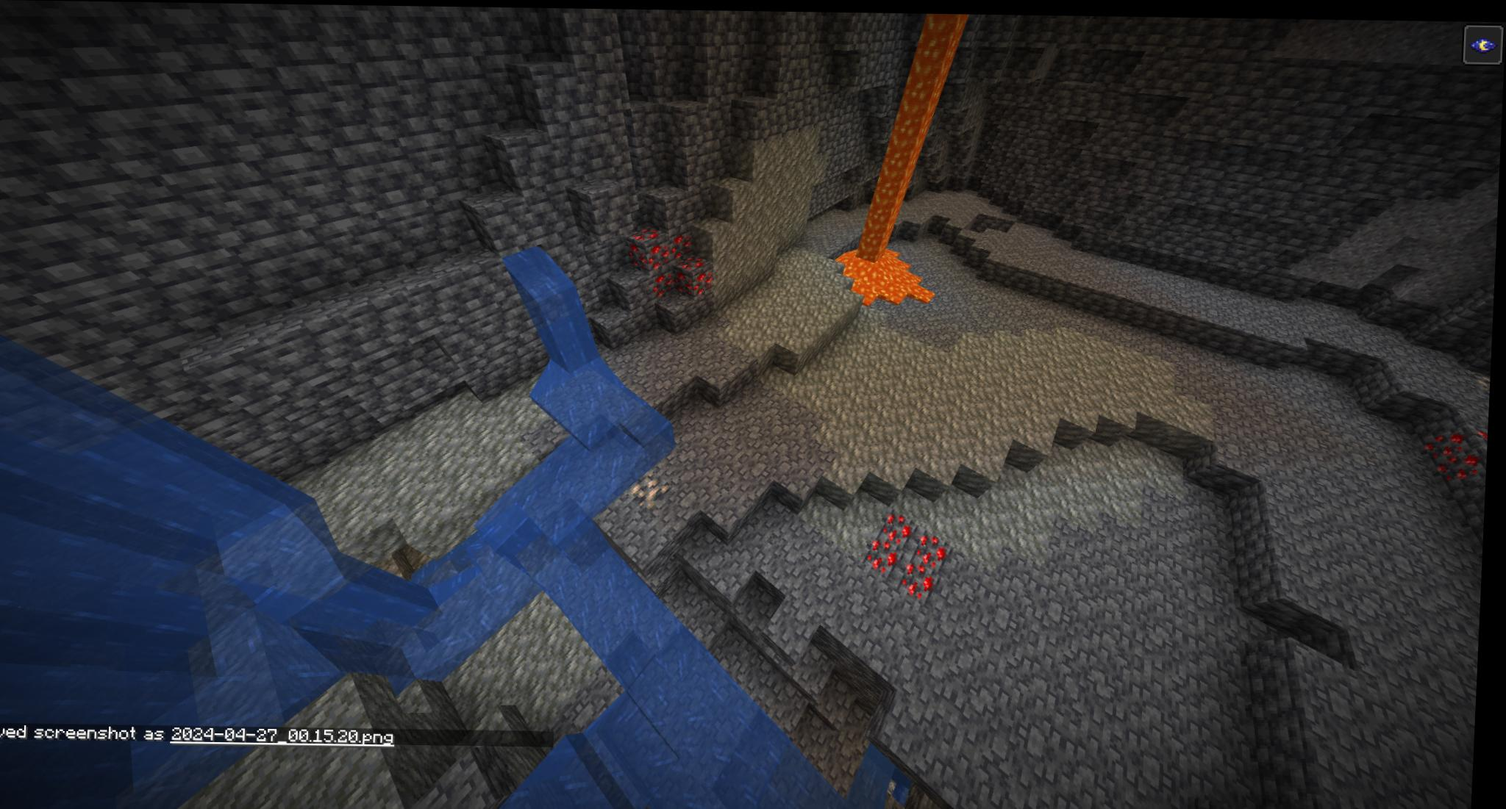iron ore: (631, 466, 678, 518)
redstone ore: (633, 231, 712, 296), (873, 513, 948, 580), (1434, 426, 1489, 477)
